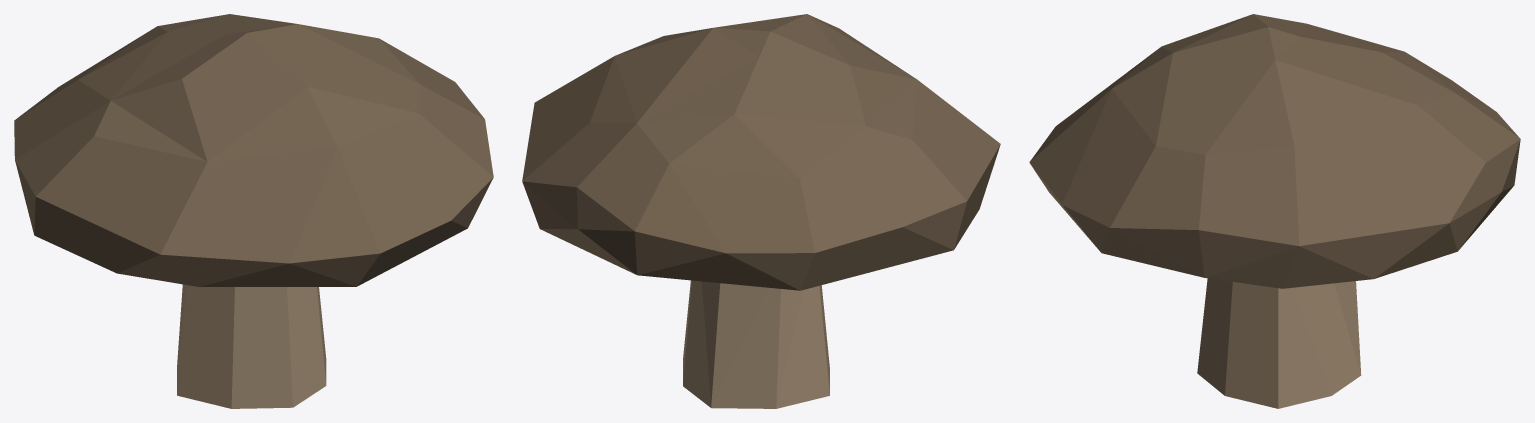
File: Portabello mushroom.fbx
3 renders of one model, left to right at view 1: azimuth 30°, elevation 25°; view 2: azimuth 150°, elevation 25°; view 3: azimuth 270°, elevation 25°, orthographic. The views are drawn at different scales.
Parts seen in each view (by area): view 1: Portabello mushroom; view 2: Portabello mushroom; view 3: Portabello mushroom.
Part boxes in pixels (box(x1,y1,x2,y2)): Portabello mushroom: box(14, 14, 493, 408); Portabello mushroom: box(522, 14, 1000, 408); Portabello mushroom: box(1029, 14, 1520, 408).
Size of the model in its own units: 9.94 by 7.76 by 10.09.
